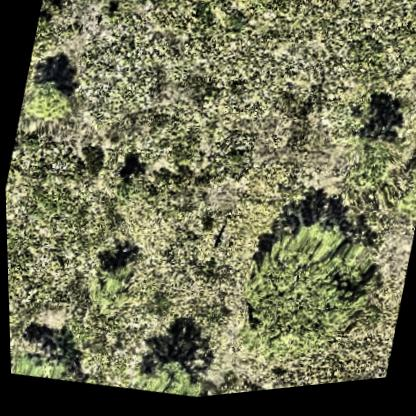tree-top: (227, 214, 382, 378), (130, 352, 209, 406), (81, 253, 140, 318), (339, 143, 396, 205), (19, 72, 78, 129), (8, 346, 79, 387), (107, 155, 149, 208)
